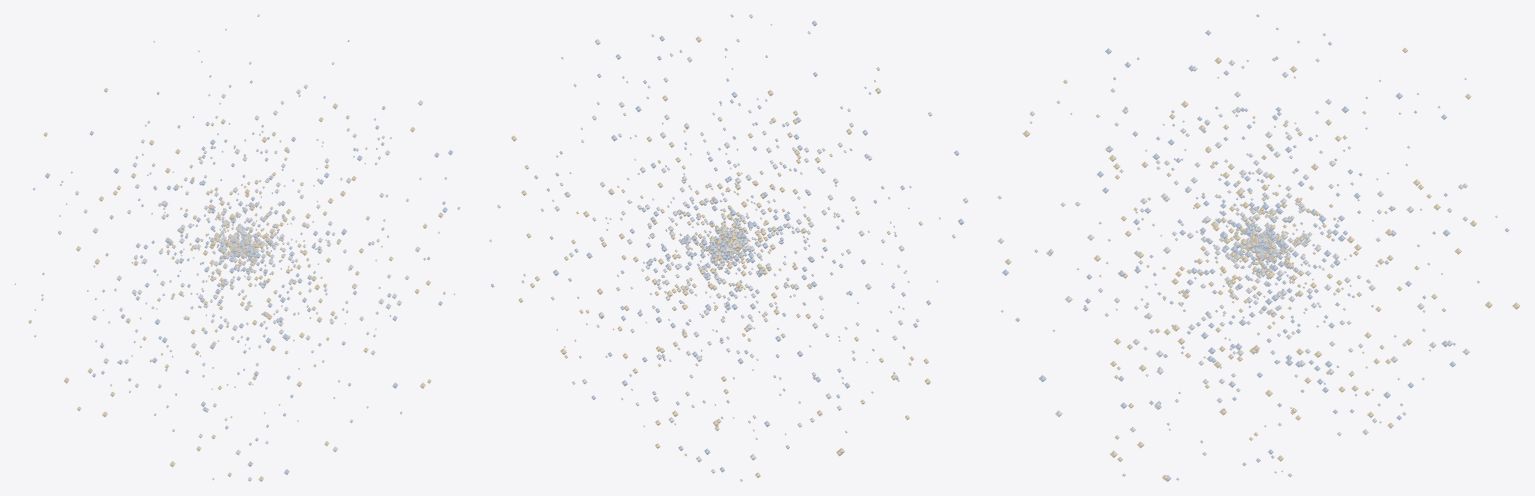
3 views of the same model, side by side, from view 1: azimuth 30°, elevation 25°; view 2: azimuth 150°, elevation 25°; view 3: azimuth 270°, elevation 25° (orthographic). The views are drawn at different scales.
Bounding box in the file's own units: 4.9 × 4.93 × 4.93.
